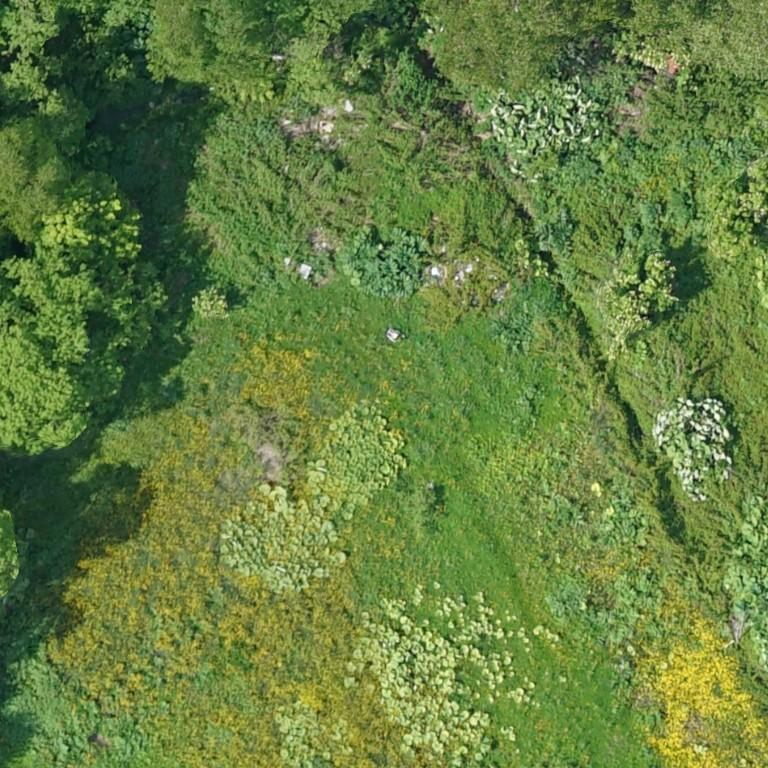hogweed: (343, 226, 428, 297), (489, 314, 530, 346)
